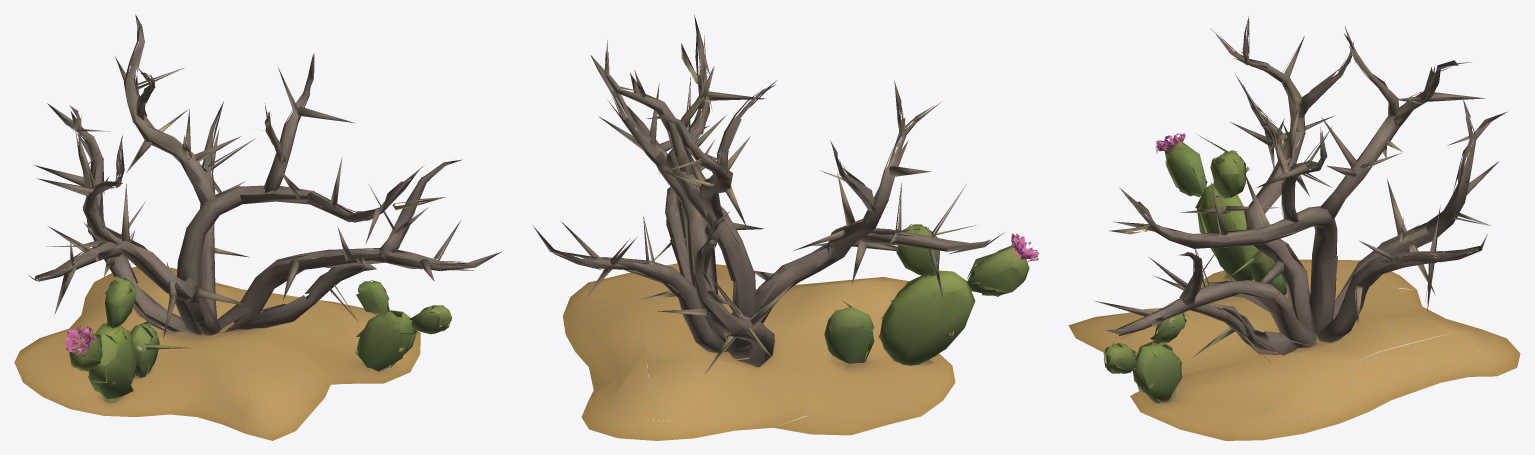
Rendered from thorns@suntotem.glb.
The picture shows the model from 3 angles, left to right: view 1: azimuth 30°, elevation 25°; view 2: azimuth 150°, elevation 25°; view 3: azimuth 270°, elevation 25°; orthographic projection. The views are drawn at different scales.
Visible parts, largest first — view 1: thorns@suntotem; view 2: thorns@suntotem; view 3: thorns@suntotem.
Boxes of the visible parts, bbox=[...] form: thorns@suntotem: bbox=[14, 14, 502, 440]; thorns@suntotem: bbox=[532, 15, 1038, 440]; thorns@suntotem: bbox=[1068, 16, 1520, 440].
Size of the model in its own units: 1.37 by 0.9026 by 1.22.
1 material, 1 textured.
